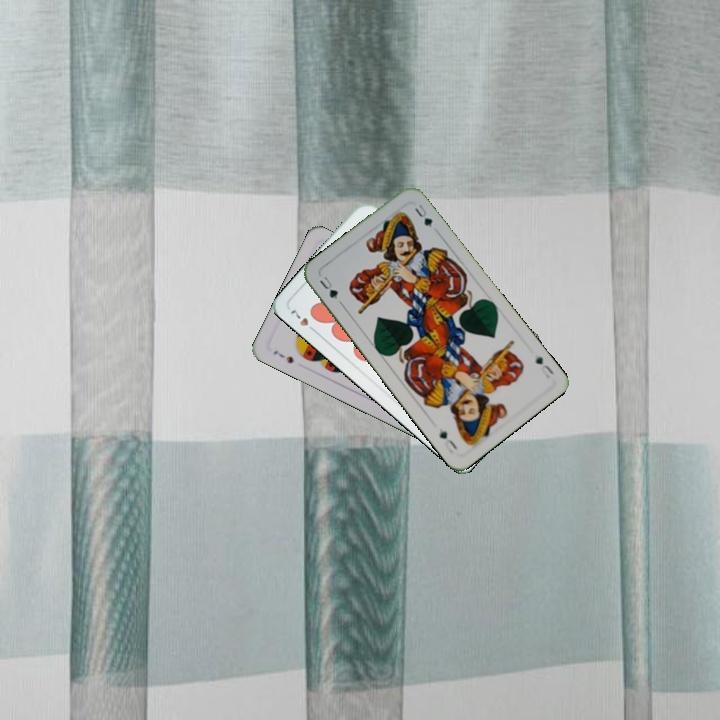GU: (315, 272, 341, 302), (531, 352, 556, 381)
H7: (286, 306, 319, 335)
S7: (269, 346, 296, 366)
